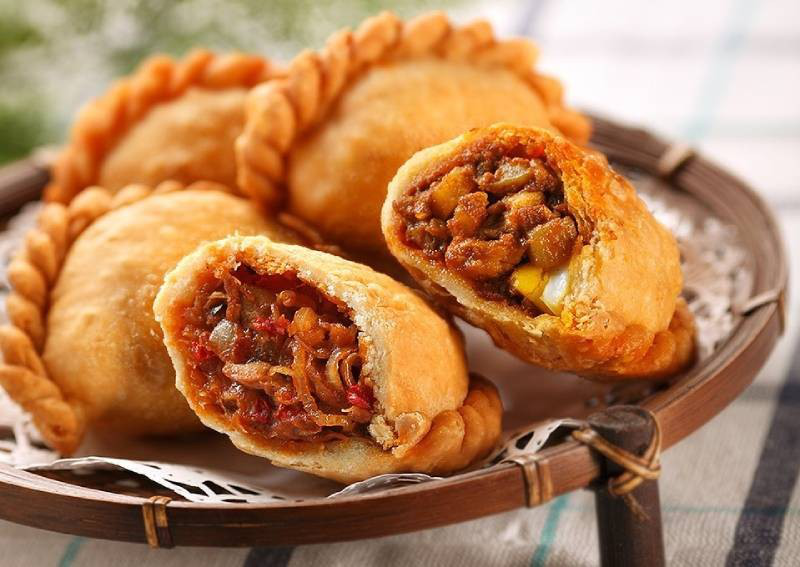Curry Puff: (365, 119, 699, 385), (143, 225, 478, 485), (28, 169, 293, 455), (256, 28, 576, 250), (36, 52, 292, 187)
